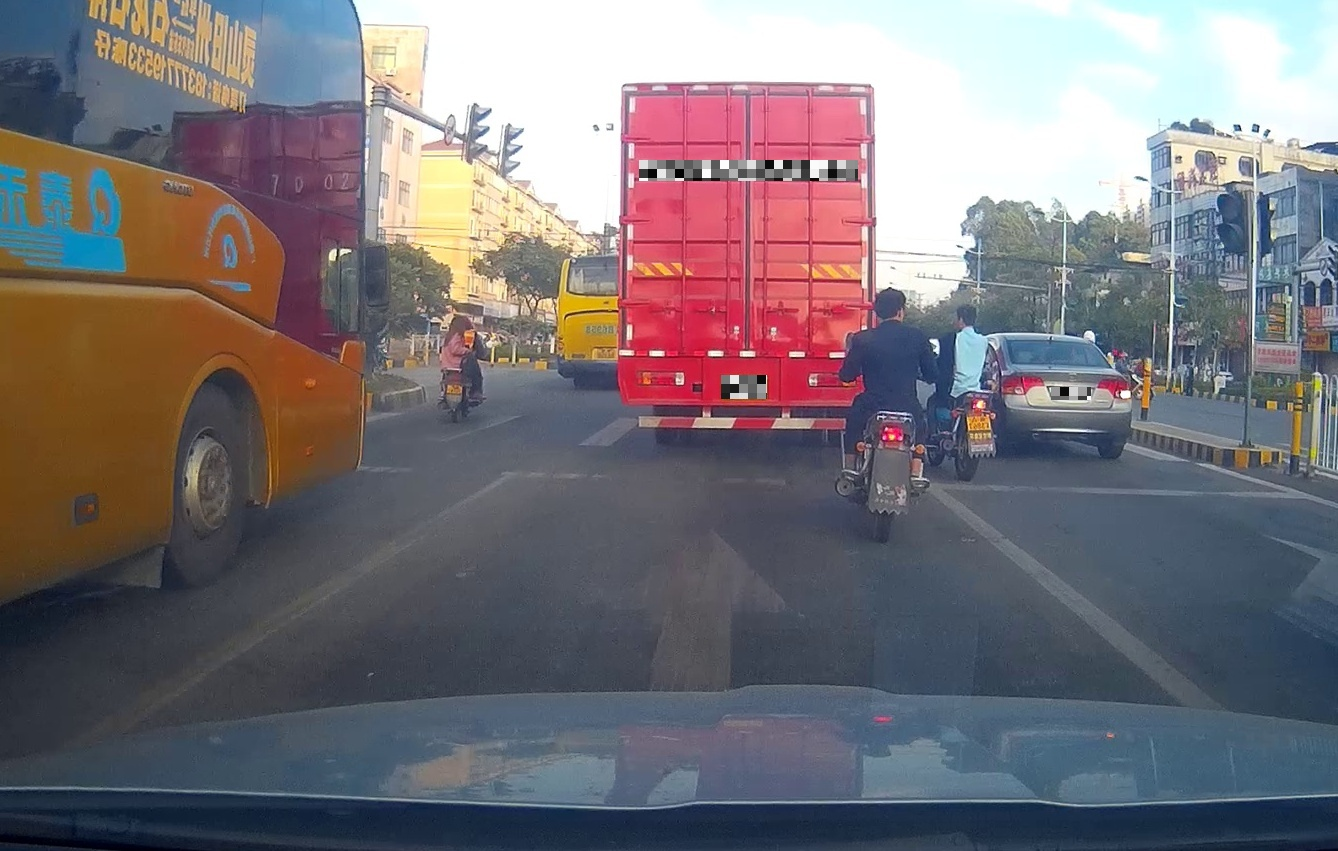L_light: (1000, 373, 1046, 395), (635, 372, 684, 386)
R_light: (1096, 378, 1132, 399), (808, 373, 857, 387)
T_light: (728, 85, 751, 96), (1046, 337, 1057, 342)
day-no: (616, 82, 876, 446)
day-right: (1000, 333, 1133, 458)
plate_1: (639, 160, 858, 181)
plate_2: (721, 375, 767, 399)
plate_3: (1051, 387, 1091, 400)
